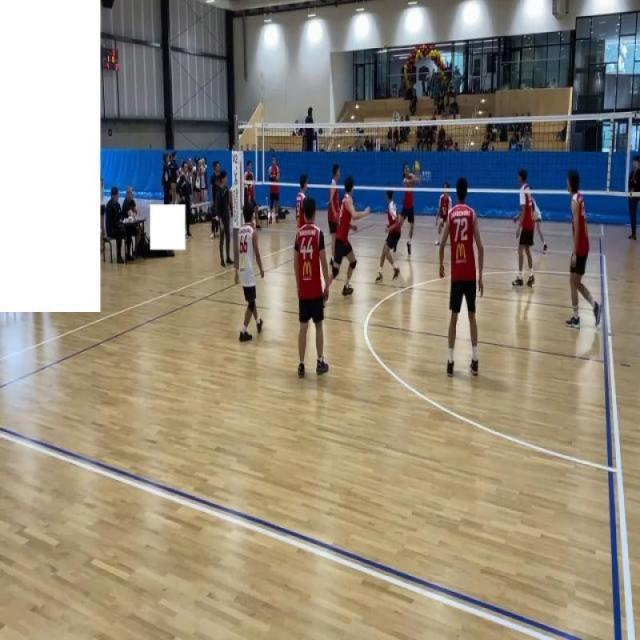volleyball: (412, 160, 421, 175), (382, 41, 388, 48)
